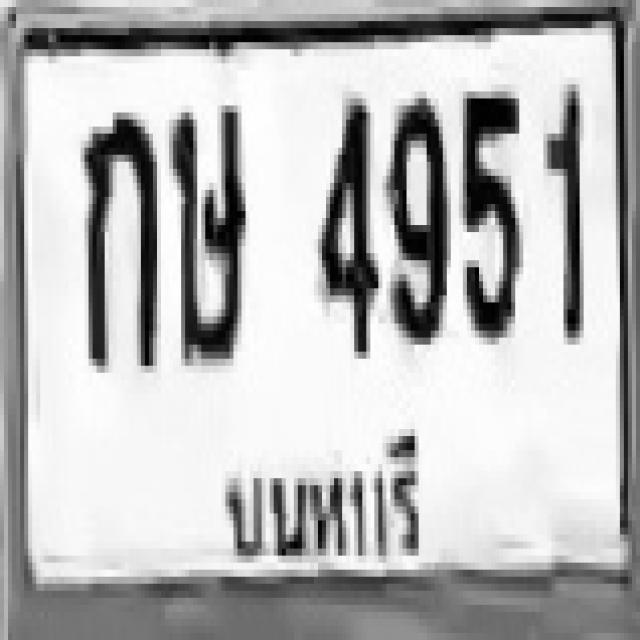1: (541, 78, 582, 338)
10GorGai: (80, 106, 157, 366)
4: (314, 91, 374, 352)
48SorRueSi: (167, 99, 244, 358)
5: (459, 85, 519, 338)
9: (384, 91, 445, 338)
Nonthaburi: (206, 404, 449, 586)
